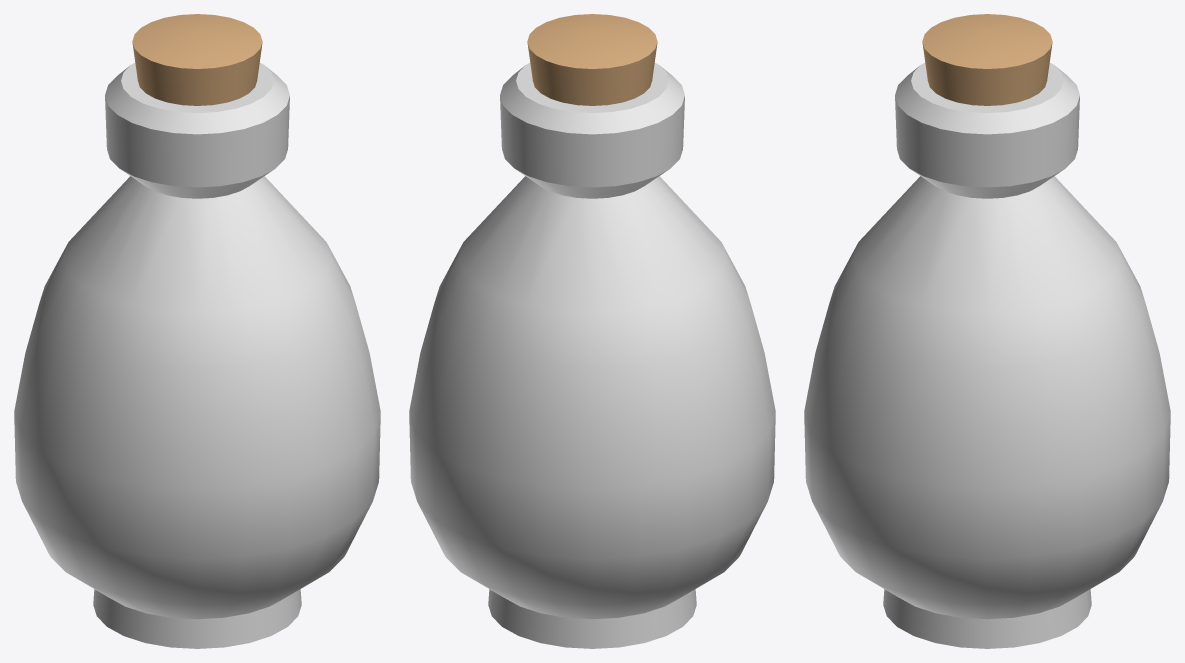
The model's file is potionSmall_red.dae.
3 renders of one model, left to right at view 1: azimuth 30°, elevation 25°; view 2: azimuth 150°, elevation 25°; view 3: azimuth 270°, elevation 25°, orthographic.
Visible parts, largest first — view 1: potionSmall_red; view 2: potionSmall_red; view 3: potionSmall_red.
Boxes of the visible parts, x1,y1,x2,y2 form: potionSmall_red: (14,14,380,648); potionSmall_red: (409,14,775,648); potionSmall_red: (804,14,1170,648).
Bounding box in the file's own units: 0.5001 × 0.5001 × 0.8622.
